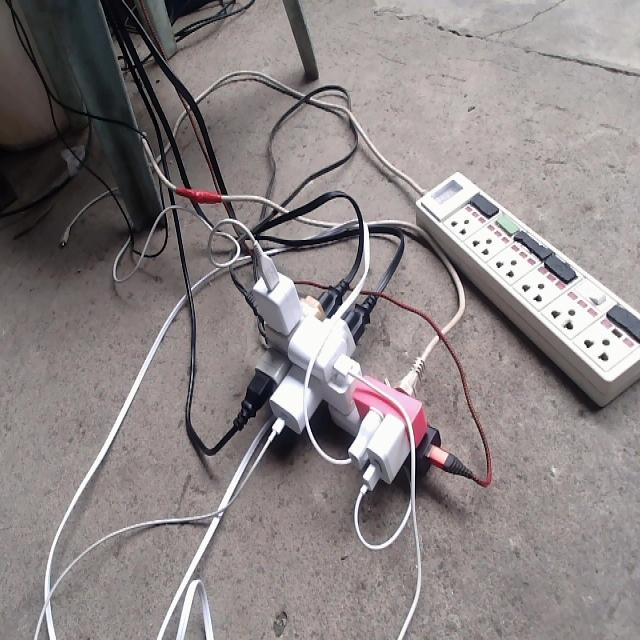-: (236, 236, 480, 499)
